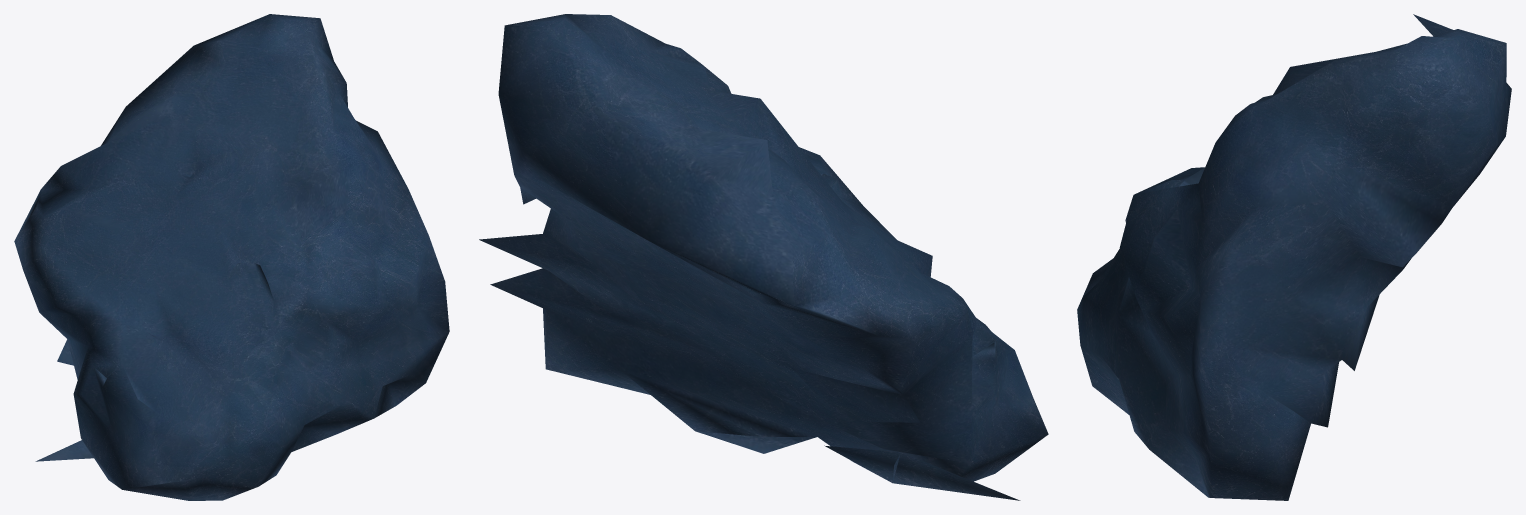
The model's file is Rock v3-CaCnbv-d.glb.
3 renders of one model, left to right at view 1: azimuth 30°, elevation 25°; view 2: azimuth 150°, elevation 25°; view 3: azimuth 270°, elevation 25°, orthographic. The views are drawn at different scales.
Visible parts, largest first — view 1: tripo_node_75d3e0cf-e041-4b43-959c-03a76947b7fc; view 2: tripo_node_75d3e0cf-e041-4b43-959c-03a76947b7fc; view 3: tripo_node_75d3e0cf-e041-4b43-959c-03a76947b7fc.
Part boxes in pixels (bbox=[...]): tripo_node_75d3e0cf-e041-4b43-959c-03a76947b7fc: bbox=[14, 14, 449, 500]; tripo_node_75d3e0cf-e041-4b43-959c-03a76947b7fc: bbox=[479, 14, 1048, 500]; tripo_node_75d3e0cf-e041-4b43-959c-03a76947b7fc: bbox=[1077, 14, 1511, 500].
Size of the model in its own units: 1 by 0.8517 by 0.7267.
1 material, 1 textured.
